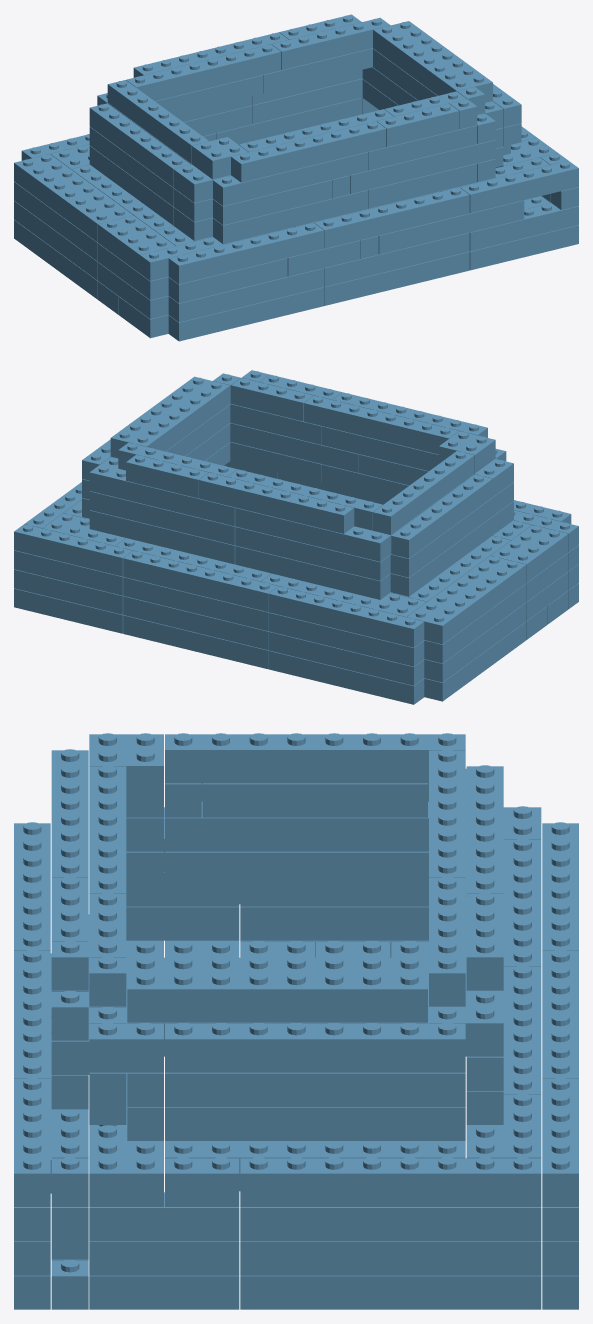
Rendered from 237_tower_L2.glb.
The picture shows the model from 3 angles, top to bottom: view 1: azimuth 30°, elevation 25°; view 2: azimuth 150°, elevation 25°; view 3: azimuth 270°, elevation 25°; orthographic projection. The views are drawn at different scales.
Size of the model in its own units: 22.98 by 8.13 by 14.98.
